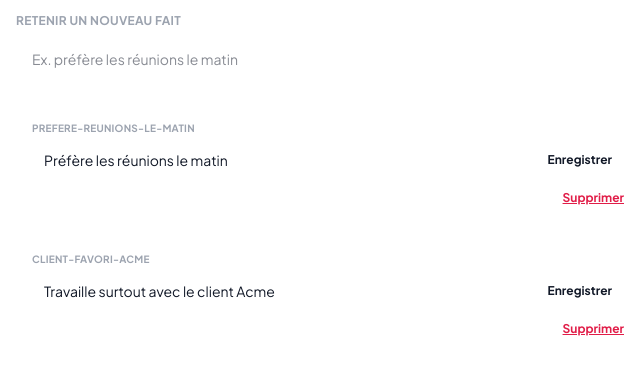
Scenario: <MemoryPanel /> › shows the delete error message when deleteMemoryAction reports a failure
Click the button with aria-label "Supprimer le fait prefere-reunions-le-matin" at (593, 198), box [562,190,624,206]
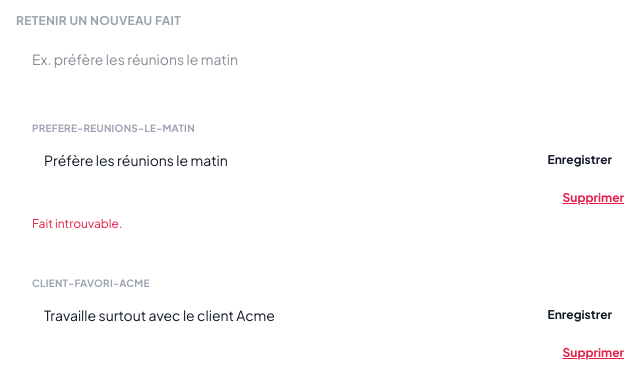
Expected: the message reads "Fait introuvable.", [32,216,122,231]
